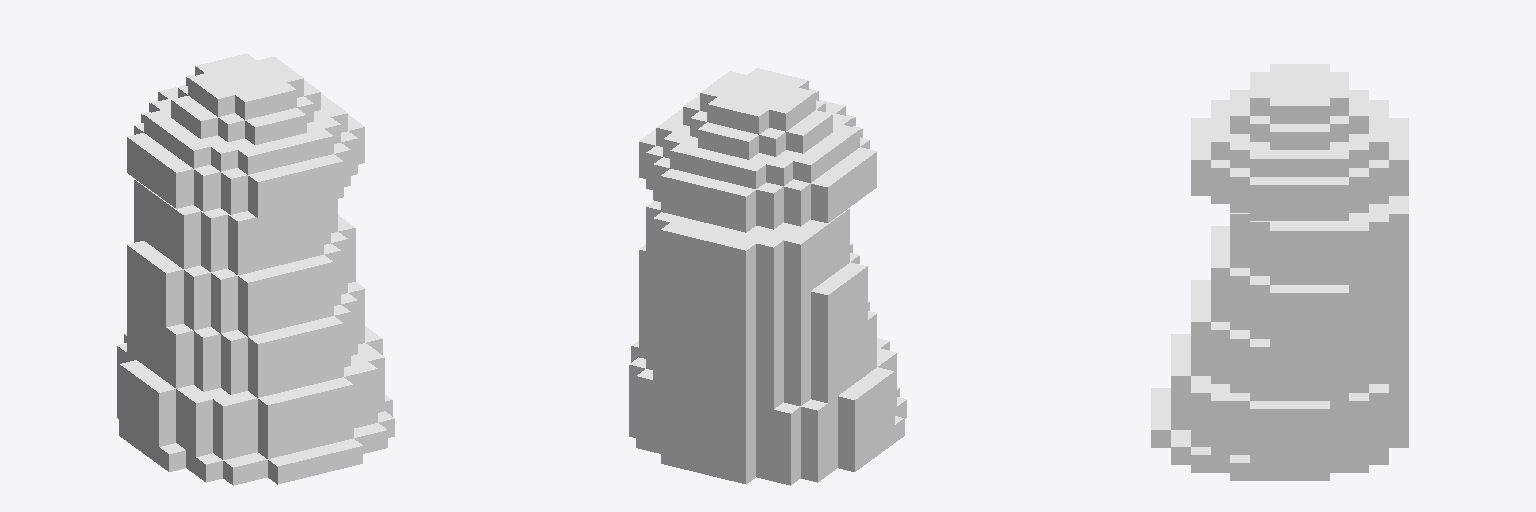
The model's file is extra_life.obj.
The picture shows the model from 3 angles: view 1: azimuth 30°, elevation 25°; view 2: azimuth 150°, elevation 25°; view 3: azimuth 270°, elevation 25°; orthographic projection.
Visible parts, largest first — view 1: object 1; view 2: object 1; view 3: object 1.
Boxes of the visible parts, box(x1,y1,x2,y2) form: object 1: box(117, 53, 394, 485); object 1: box(629, 68, 906, 485); object 1: box(1151, 64, 1408, 480).
Bounding box in the file's own units: 1.3 × 1.9 × 1.3.